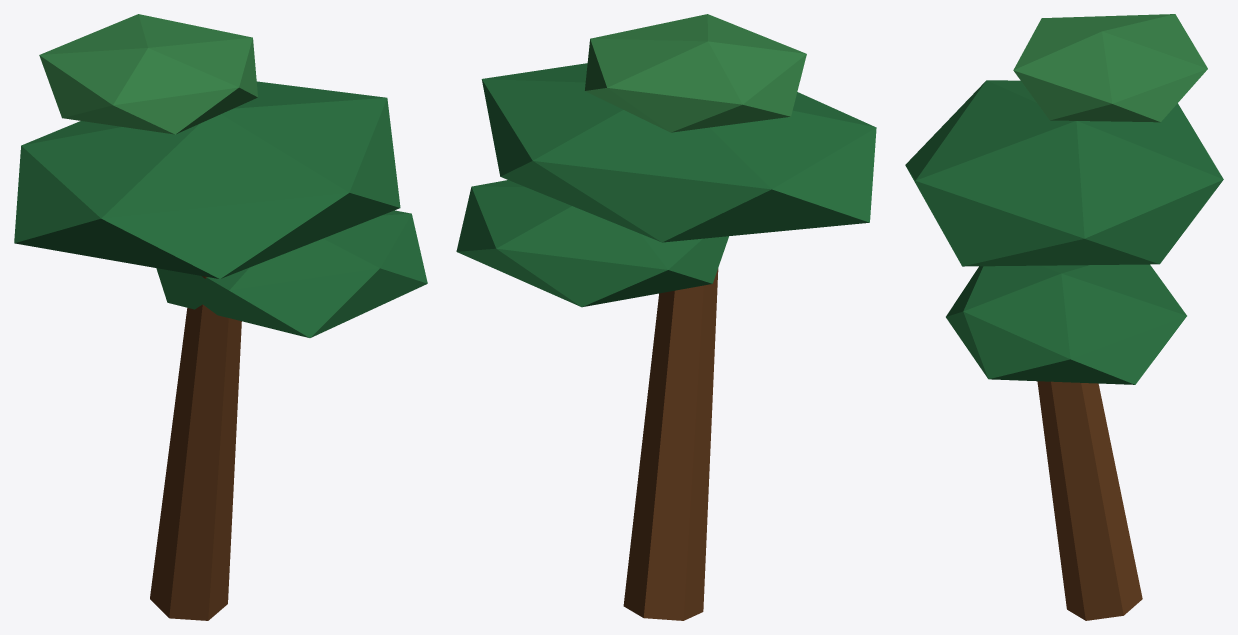
Rendered from pine_tree_japanese.glb.
The picture shows the model from 3 angles, left to right: view 1: azimuth 30°, elevation 25°; view 2: azimuth 150°, elevation 25°; view 3: azimuth 270°, elevation 25°; orthographic projection. The views are drawn at different scales.
Parts seen in each view (by area): view 1: pine_tree_japanese; view 2: pine_tree_japanese; view 3: pine_tree_japanese.
Part boxes in pixels (<box>): pine_tree_japanese: <box>14,14,427,620</box>; pine_tree_japanese: <box>456,14,876,620</box>; pine_tree_japanese: <box>905,14,1223,620</box>.
Bounding box in the file's own units: 2.32 × 3.21 × 1.66.
